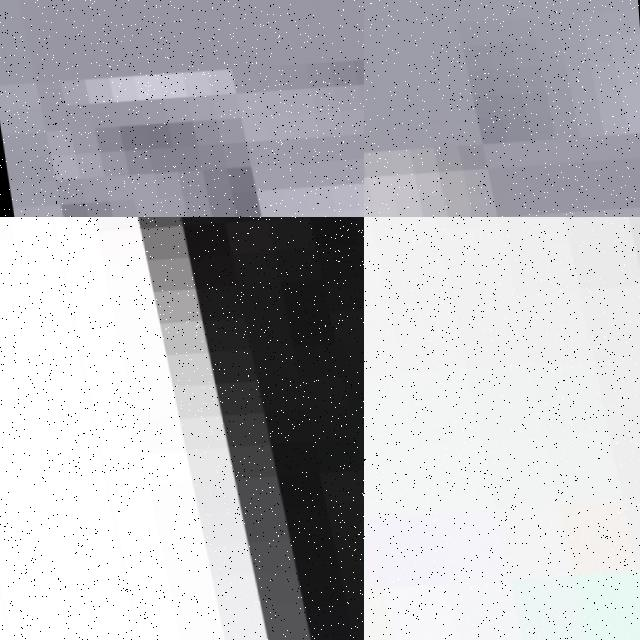drone: (0, 217, 364, 640), (364, 217, 640, 640), (0, 0, 364, 217), (364, 0, 640, 217)
